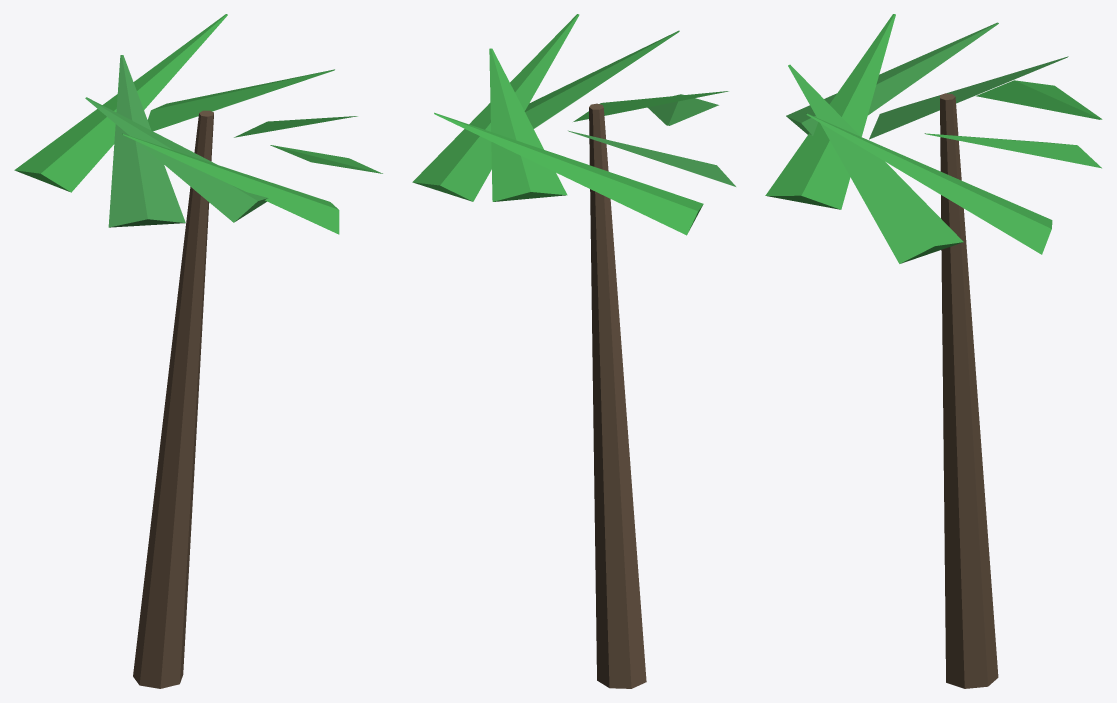
Rendered from tree_palm_11.glb.
The picture shows the model from 3 angles, left to right: view 1: azimuth 30°, elevation 25°; view 2: azimuth 150°, elevation 25°; view 3: azimuth 270°, elevation 25°; orthographic projection. The views are drawn at different scales.
Visible parts, largest first — view 1: Trunk, Cone.003, Cone.002, Cone.004, Cone.005, Cone.001, Cone.006, Cone; view 2: Trunk, Cone, Cone.002, Cone.001, Cone.006, Cone.003, Cone.004, Cone.005; view 3: Trunk, Cone.006, Cone.005, Cone, Cone.004, Cone.003, Cone.002, Cone.001.
Boxes of the visible parts, left/top/right/bottom form: Trunk: left=133, top=110, right=213, bottom=688; Cone.003: left=108, top=55, right=185, bottom=227; Cone.002: left=14, top=14, right=227, bottom=192; Cone.004: left=85, top=97, right=267, bottom=222; Cone.005: left=122, top=133, right=339, bottom=234; Cone.001: left=147, top=69, right=334, bottom=131; Cone.006: left=270, top=145, right=382, bottom=173; Cone: left=234, top=116, right=357, bottom=137; Trunk: left=589, top=103, right=646, bottom=688; Cone: left=412, top=14, right=579, bottom=201; Cone.002: left=434, top=112, right=703, bottom=235; Cone.001: left=489, top=48, right=567, bottom=201; Cone.006: left=524, top=30, right=679, bottom=128; Cone.003: left=568, top=130, right=735, bottom=186; Cone.004: left=647, top=94, right=718, bottom=125; Cone.005: left=573, top=91, right=728, bottom=121; Trunk: left=940, top=93, right=998, bottom=688; Cone.006: left=788, top=64, right=963, bottom=263; Cone.005: left=765, top=14, right=895, bottom=209; Cone: left=806, top=113, right=1052, bottom=254; Cone.004: left=786, top=22, right=998, bottom=135; Cone.003: left=869, top=56, right=1068, bottom=139; Cone.002: left=976, top=80, right=1102, bottom=119; Cone.001: left=924, top=133, right=1101, bottom=168.
Size of the model in its own units: 3.8 by 7.21 by 3.52.
